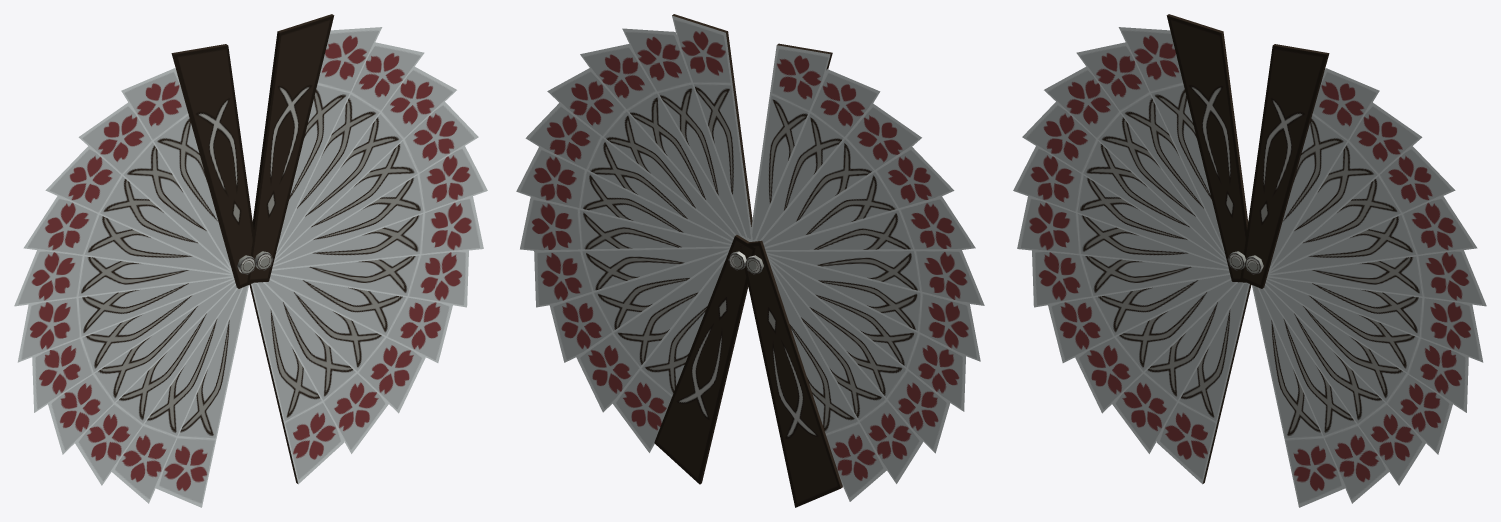
Rendered from wp_fan_nlv40.fbx.
The picture shows the model from 3 angles, left to right: view 1: azimuth 30°, elevation 25°; view 2: azimuth 150°, elevation 25°; view 3: azimuth 330°, elevation 25°; orthographic projection.
Visible parts, largest first — view 1: wp_fan_nlv40_02, wp_fan_nlv40_01; view 2: wp_fan_nlv40_02, wp_fan_nlv40_01; view 3: wp_fan_nlv40_01, wp_fan_nlv40_02.
Boxes of the visible parts, x1,y1,x2,y2 form: wp_fan_nlv40_02: (14,44,256,507); wp_fan_nlv40_01: (247,14,487,484); wp_fan_nlv40_02: (740,43,984,507); wp_fan_nlv40_01: (516,14,755,484); wp_fan_nlv40_01: (1240,44,1486,507); wp_fan_nlv40_02: (1013,14,1251,484).
Size of the model in its own units: 106 by 99.23 by 4.27.
